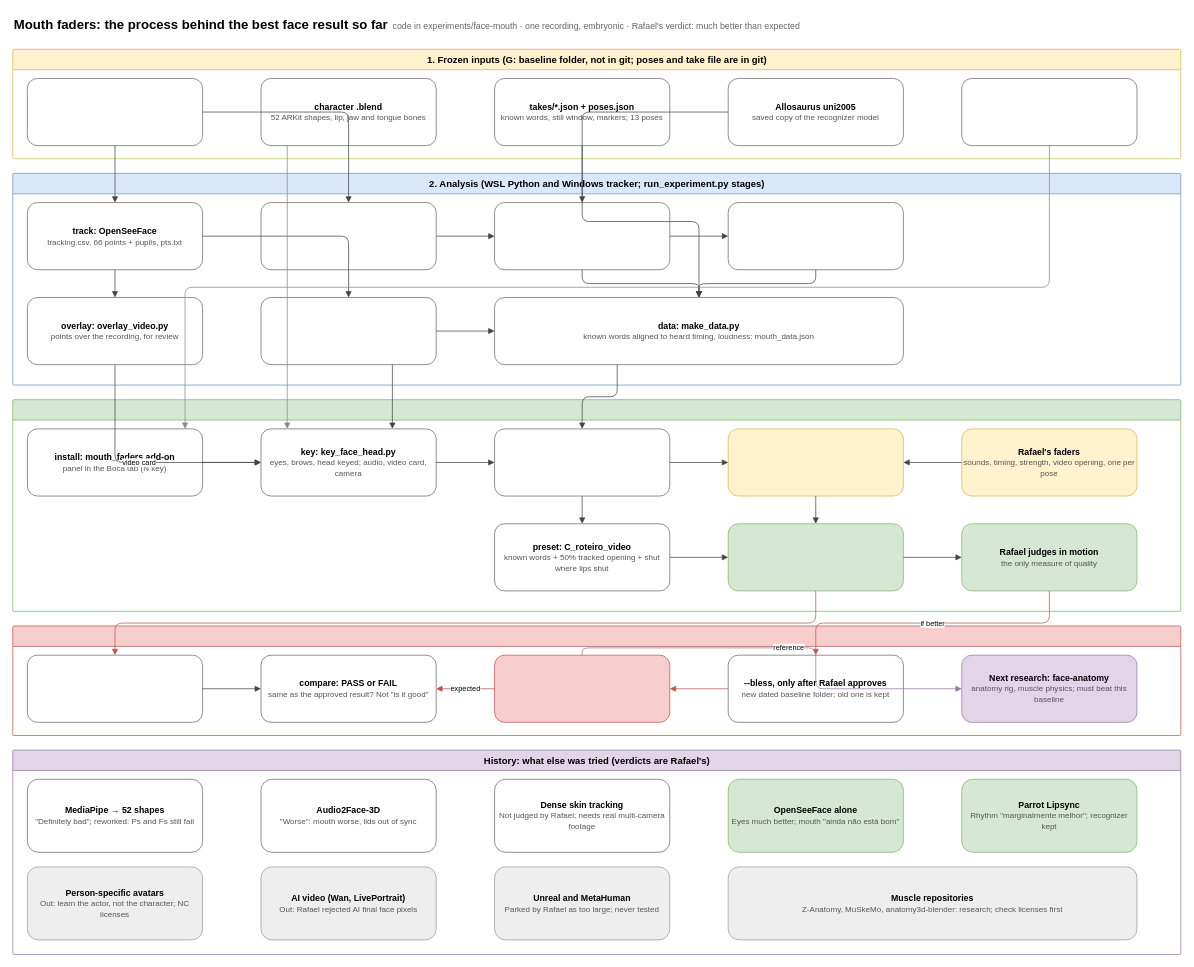
This 1194x967 diagram has some shape labels left out. The box of each missing label's shape, as (x1, y1, x2, y2) in pixels:
3. Blender scene and faders (portable Blender 5.2.2): (12, 399, 1181, 611)
4. Keeping the distance from what works: (12, 625, 1181, 735)
approved/ + expected/ the .blend Rafael judged; never overwritten: (494, 654, 670, 722)
Apps Blender 5.2.2, MPFB, OpenSeeFace v1.20.5: (961, 78, 1137, 146)
audio: ffmpeg voice.wav, audio.raw: (260, 202, 436, 270)
Bake on every fader move each sound pulls towards its pose; bell-shaped blend: (727, 428, 903, 496)
build: build_faders.py control object; drivers to shapes and bones: (494, 428, 670, 496)
channels: osf_to_arkit.py brows, eyes, head; tracked lip opening: (260, 297, 436, 365)
faders.blend abrir_faders.bat opens it in the portable Blender: (727, 523, 903, 591)
phones: Allosaurus (Portuguese) phones.txt: sound + start time: (494, 202, 670, 270)
recording.mp4 performer alone: farol, pipoca, farofa ×3: (27, 78, 203, 146)
table: make_table.py every sound → 1 of 12 mouth groups: (727, 202, 903, 270)
verify: verify_faders.py measures A, B, C; tests a fader; curves; 8 stills: (27, 654, 203, 722)
